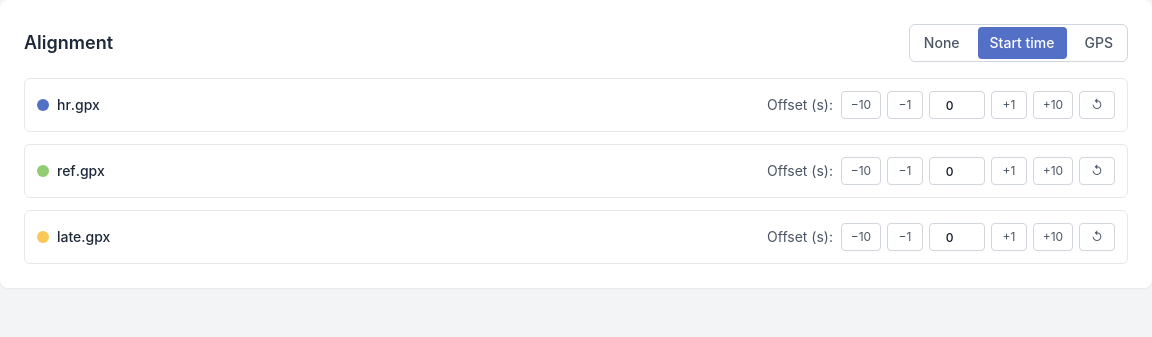
Test: AlignmentPanel › uses the first activity with GPS as the reference
The width and height of the screenshot is (1152, 337).
Click the button "GPS": click(1099, 43) [1072, 27, 1125, 59]
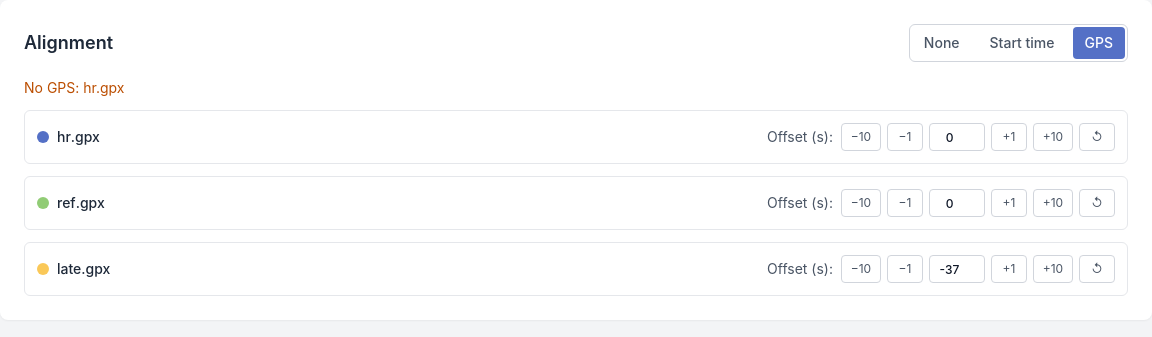
Result: the text "No GPS: hr.gpx" is shown at [24, 79, 124, 96]
